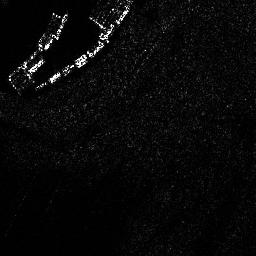ship: (27, 59, 45, 74), (48, 72, 61, 82)
